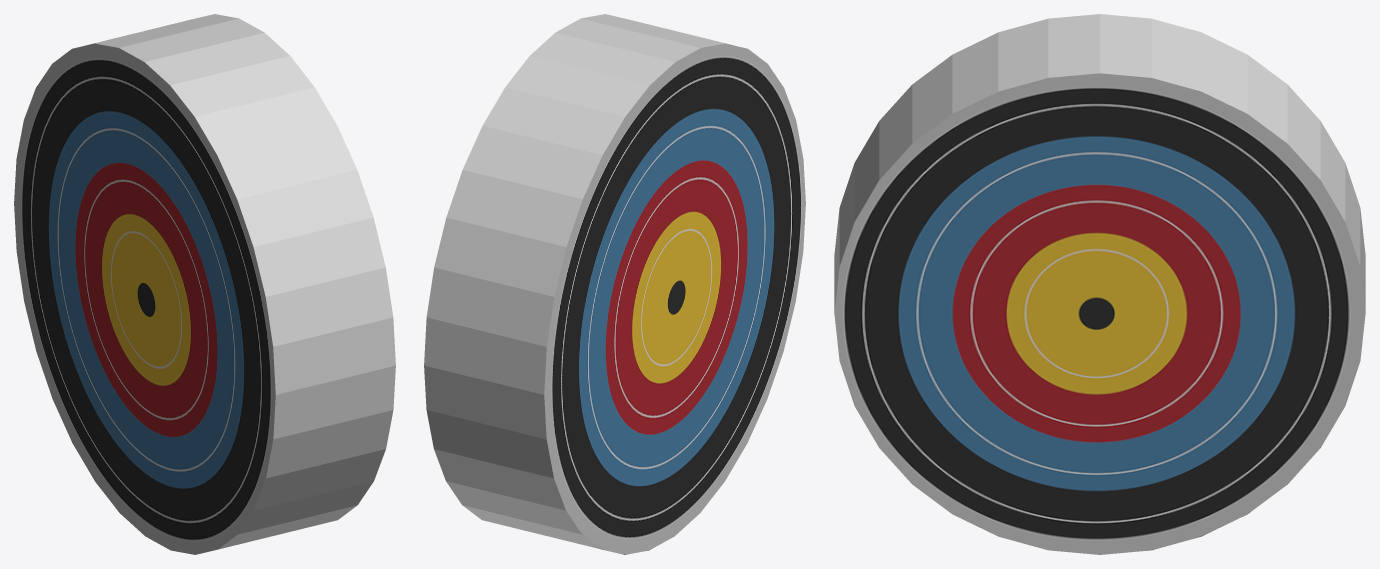
Rendered from target.fbx.
3 renders of one model, left to right at view 1: azimuth 30°, elevation 25°; view 2: azimuth 150°, elevation 25°; view 3: azimuth 270°, elevation 25°, orthographic.
Parts seen in each view (by area): view 1: Cylinder; view 2: Cylinder; view 3: Cylinder.
Boxes of the visible parts, <box> form: Cylinder: <box>14,14,395,554</box>; Cylinder: <box>424,14,805,554</box>; Cylinder: <box>834,14,1365,554</box>.
Size of the model in its own units: 0.5333 by 2 by 2.
